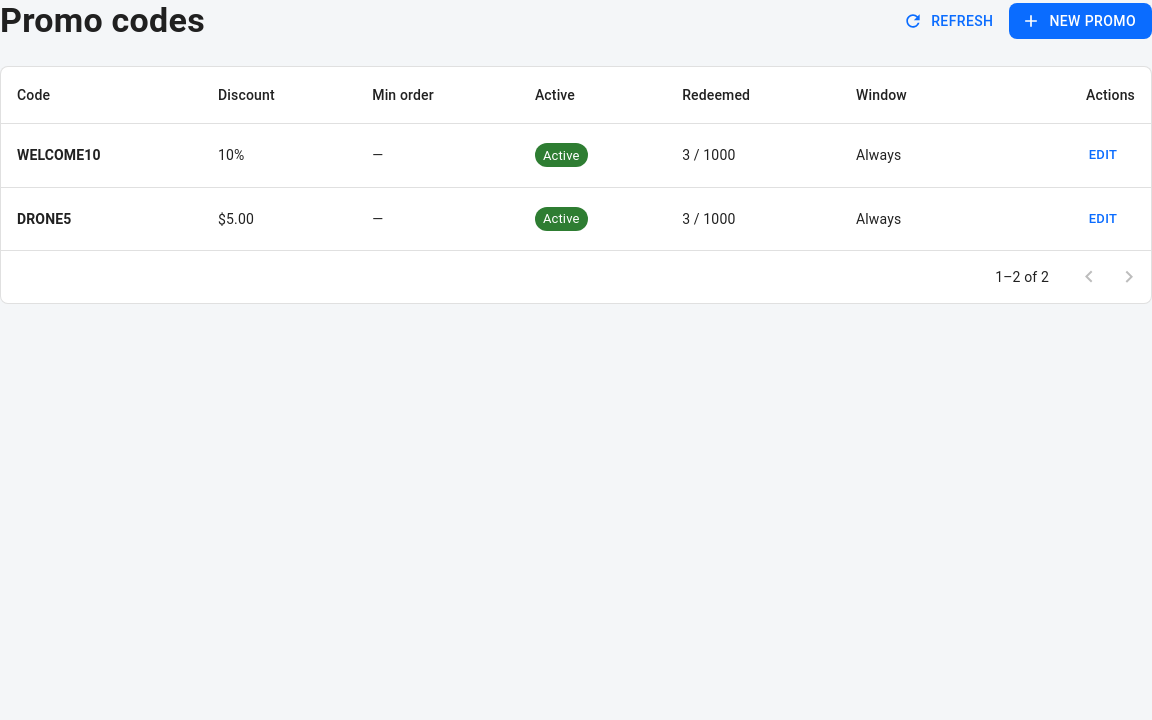
PromosListPage › opens the create dialog when "New promo" is clicked
The width and height of the screenshot is (1152, 720).
expect the text "WELCOME10" is shown: met, box x1=1 y1=124 x2=202 y2=187
Click the button "New promo".
click(1081, 21)  # box x1=1009 y1=3 x2=1151 y2=39
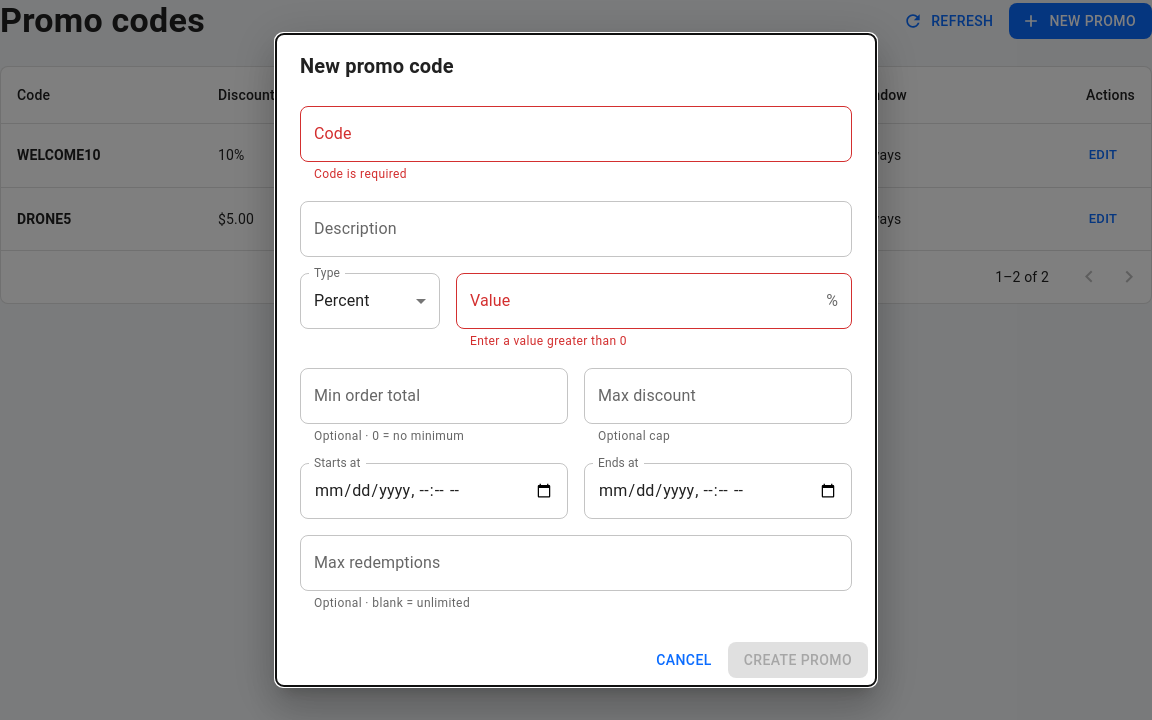
expect the heading "New promo code" is shown: met, box x1=300 y1=54 x2=454 y2=78
